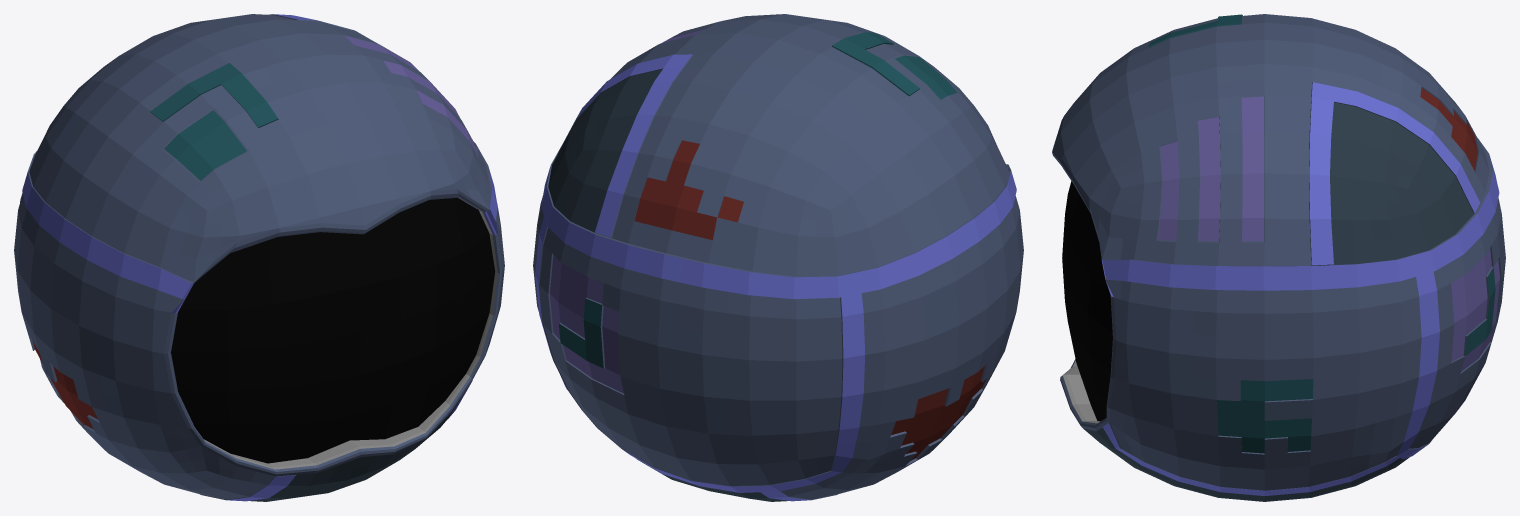
Rendered from characterv2.fbx.
The picture shows the model from 3 angles, left to right: view 1: azimuth 30°, elevation 25°; view 2: azimuth 150°, elevation 25°; view 3: azimuth 270°, elevation 25°; orthographic projection.
Parts seen in each view (by area): view 1: m5; view 2: m5; view 3: m5.
Boxes of the visible parts, box(x1,y1,x2,y2) form: m5: box(14, 14, 504, 501); m5: box(533, 14, 1023, 501); m5: box(1052, 14, 1505, 501).
Bounding box in the file's own units: 168 × 168 × 158.
